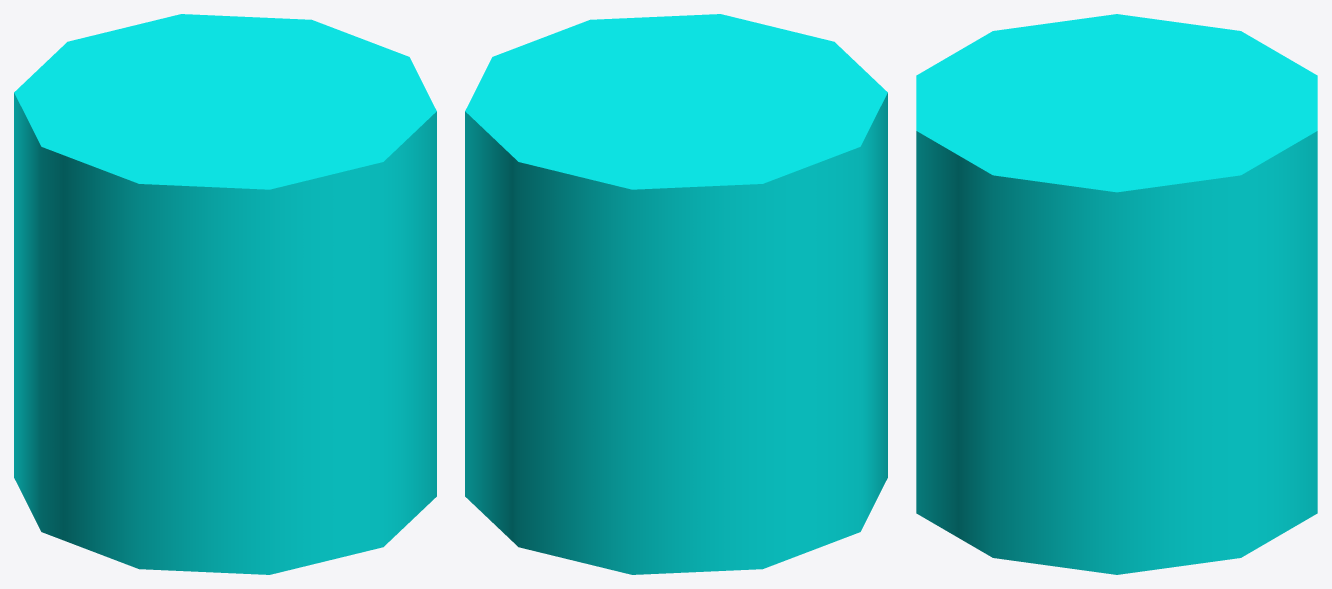
File: Robot_Body.FBX
3 renders of one model, left to right at view 1: azimuth 30°, elevation 25°; view 2: azimuth 150°, elevation 25°; view 3: azimuth 270°, elevation 25°, orthographic.
Parts seen in each view (by area): view 1: Body; view 2: Body; view 3: Body.
Part boxes in pixels (box(x1,y1,x2,y2)): Body: box(14, 14, 436, 574); Body: box(465, 14, 887, 574); Body: box(916, 14, 1317, 574).
Size of the model in its own units: 2 by 2 by 1.9.
